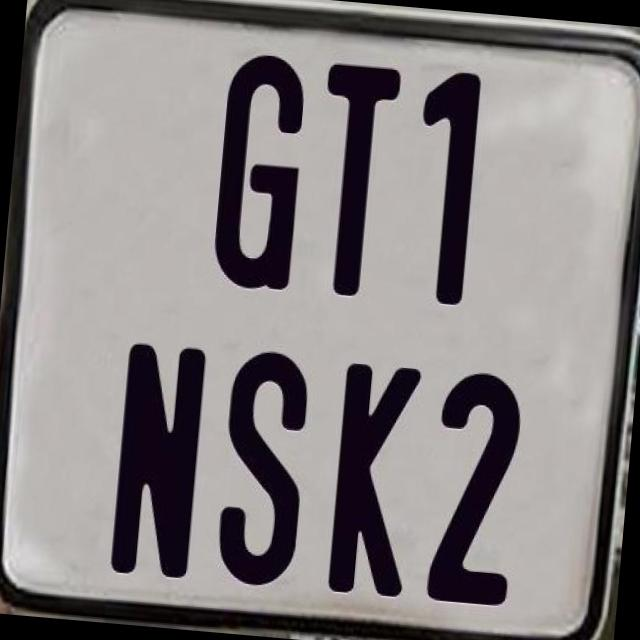1: (404, 70, 484, 314)
2: (424, 366, 524, 609)
G: (210, 52, 314, 302)
K: (327, 360, 422, 598)
N: (106, 336, 205, 574)
S: (212, 344, 310, 584)
T: (308, 61, 408, 302)
